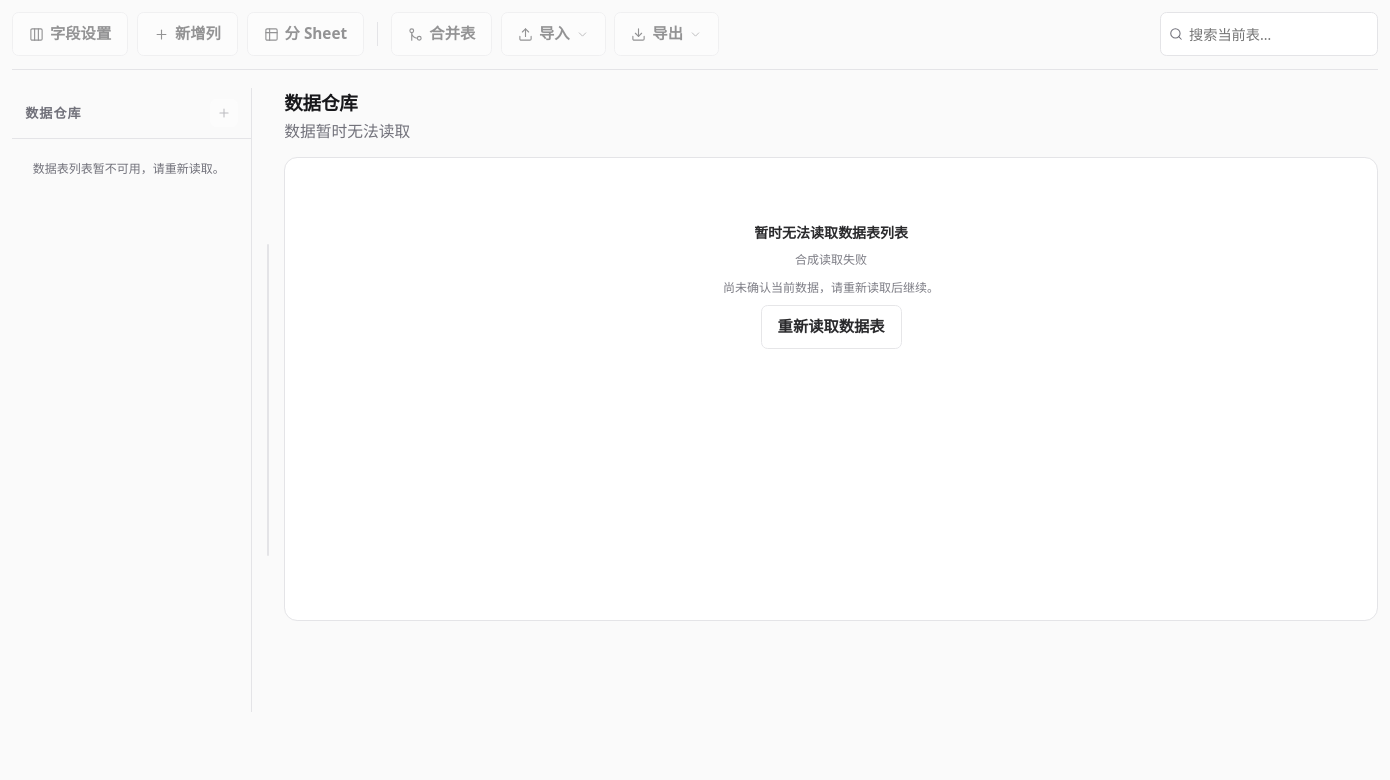
it: warehouse read state › distinguishes a failed list read from empty data and retries in place
Expected: the message shows "合成读取失败", [795,251,867,268]
Expected: the button "新增一行" is not shown
Click the button "重新读取数据表": {"x": 831, "y": 327} [761,305,902,349]
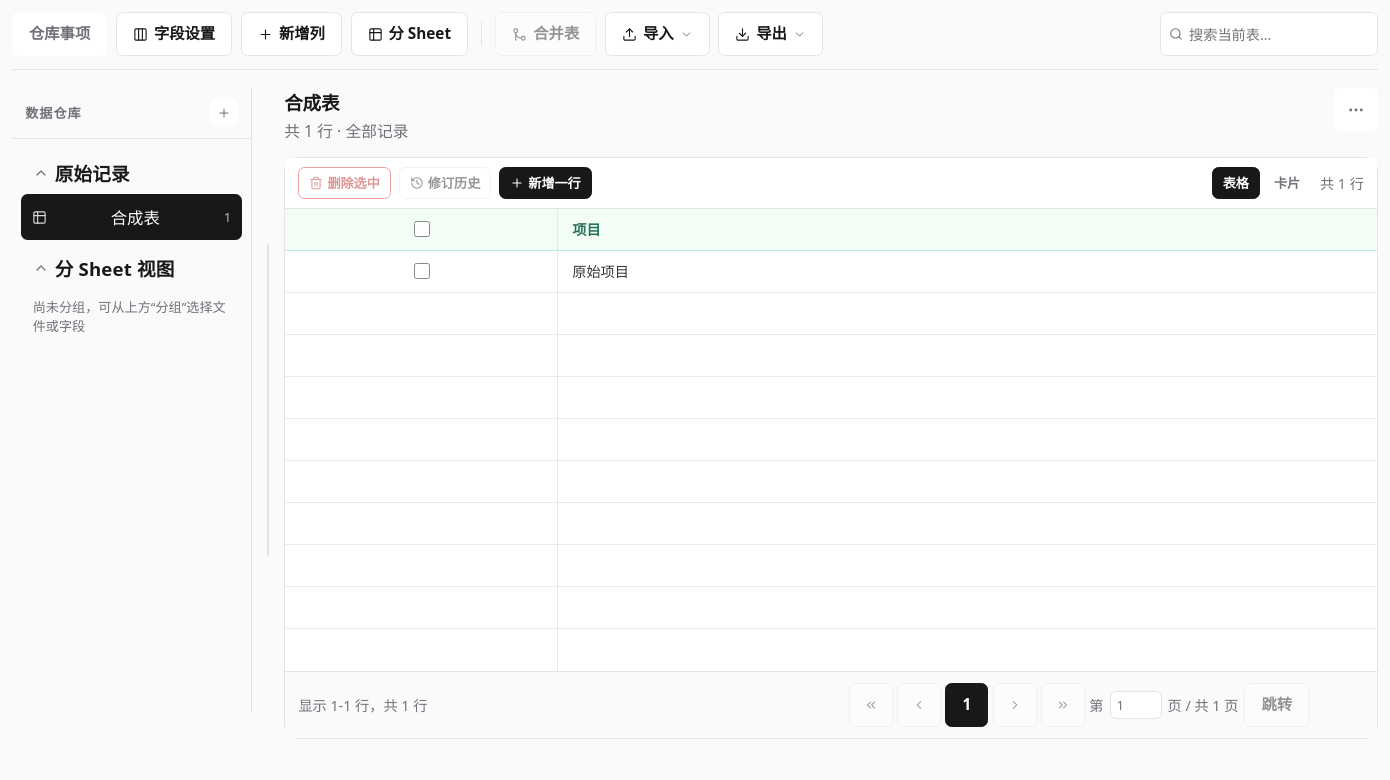
Expected: the cell named "编辑 项目，当前值 原始项目" is shown, [558,251,1377,293]
Expected: the button "导出" is enabled, [718,12,823,56]
Expected: the message "暂时无法读取数据表列表 合成读取失败 尚未确认当前数据，请重新读取后继续。 重新读取数据表" is gone
